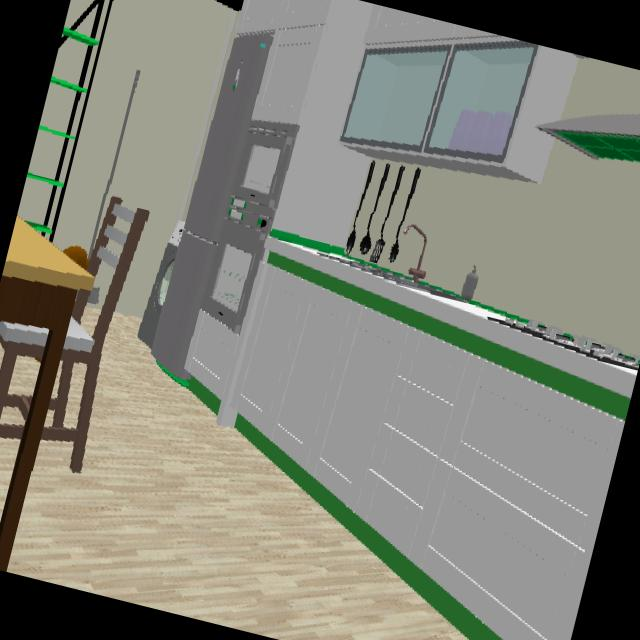cabinet: (237, 265, 624, 640), (236, 0, 576, 245)
chair: (40, 197, 148, 471), (0, 324, 47, 421)
countertop: (266, 231, 637, 419)
fridge: (151, 33, 272, 379)
microwave: (231, 121, 297, 217)
oven: (201, 206, 271, 331)
sink: (329, 225, 458, 298)
stove: (489, 313, 640, 369)
table: (0, 216, 94, 569)
